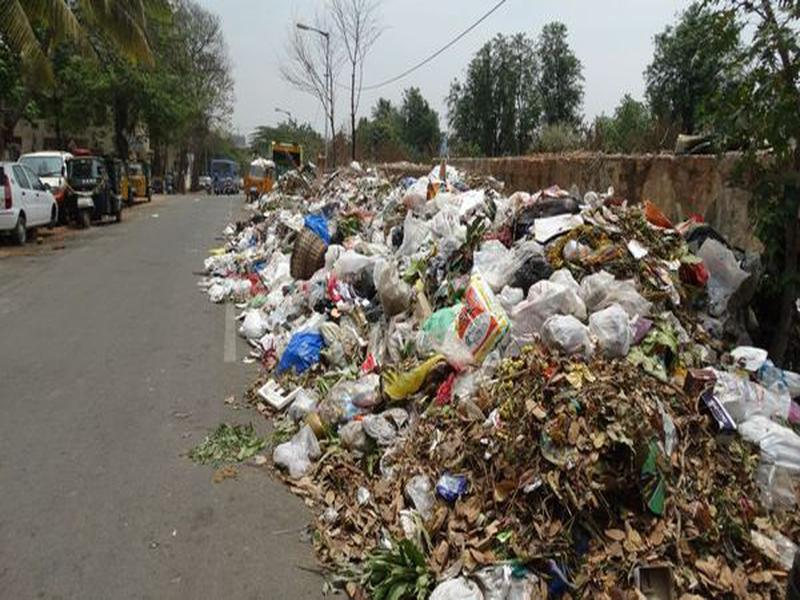plastic: (706, 360, 796, 433), (417, 304, 509, 370), (727, 415, 800, 484), (506, 267, 593, 323), (467, 233, 547, 293), (382, 207, 467, 251), (505, 192, 584, 236), (269, 423, 327, 482), (588, 300, 637, 364), (530, 311, 595, 358), (271, 327, 328, 380), (366, 251, 413, 312)
